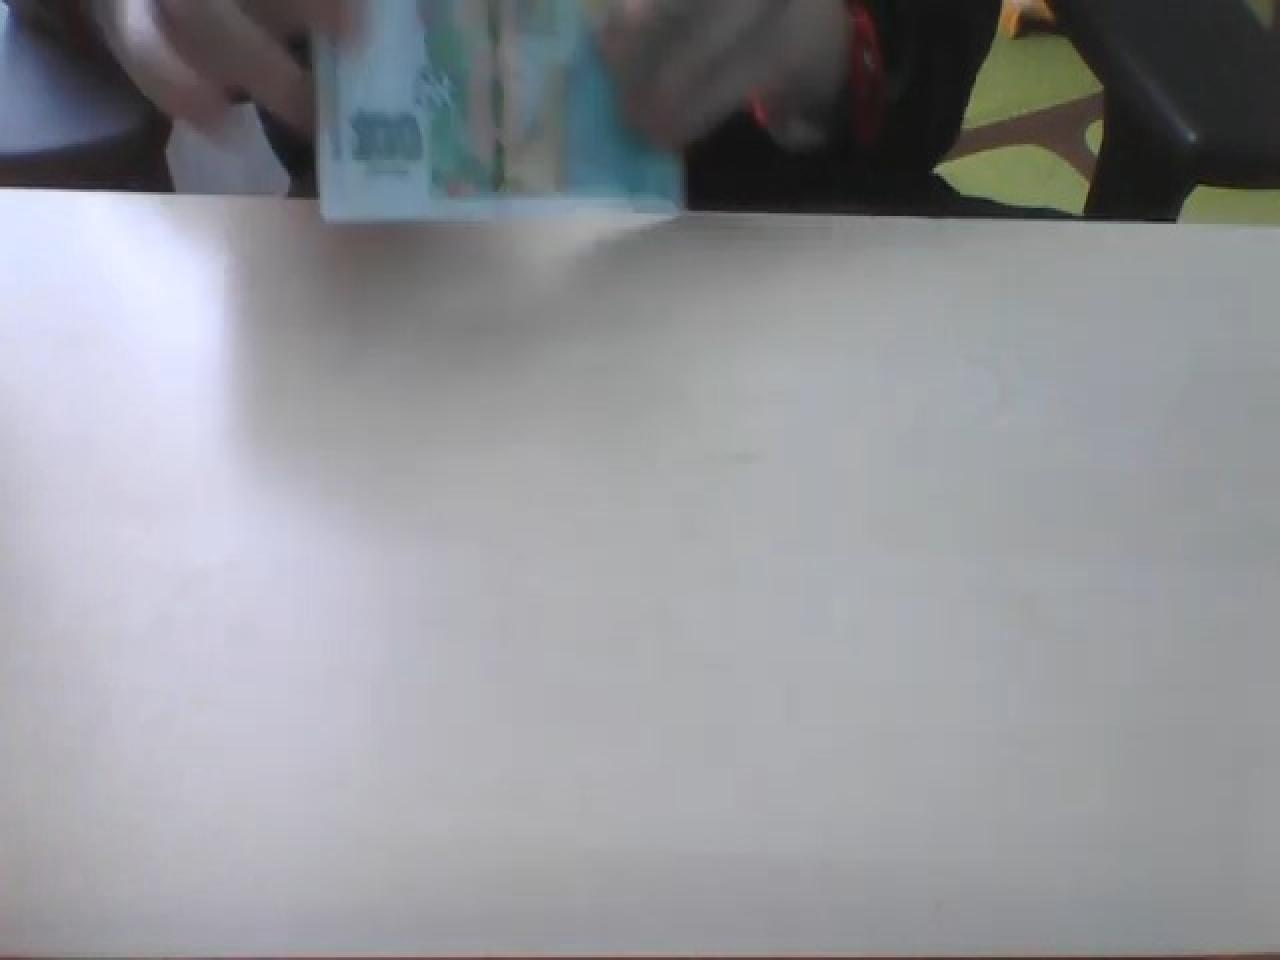100leva: (2, 182, 1276, 952)
